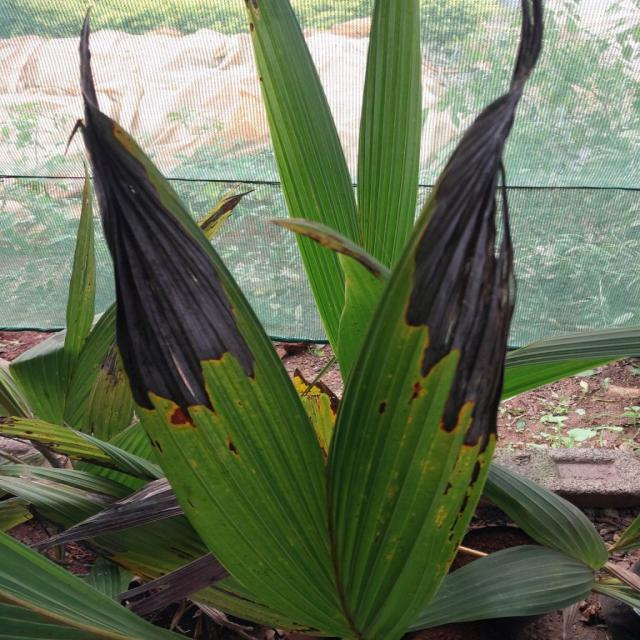gray leaf spot: (82, 10, 544, 640)
